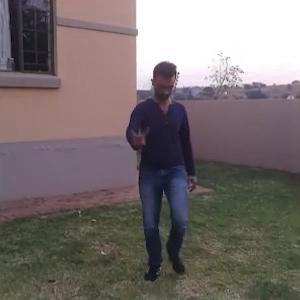takeoff-hand: (126, 118, 151, 147)
